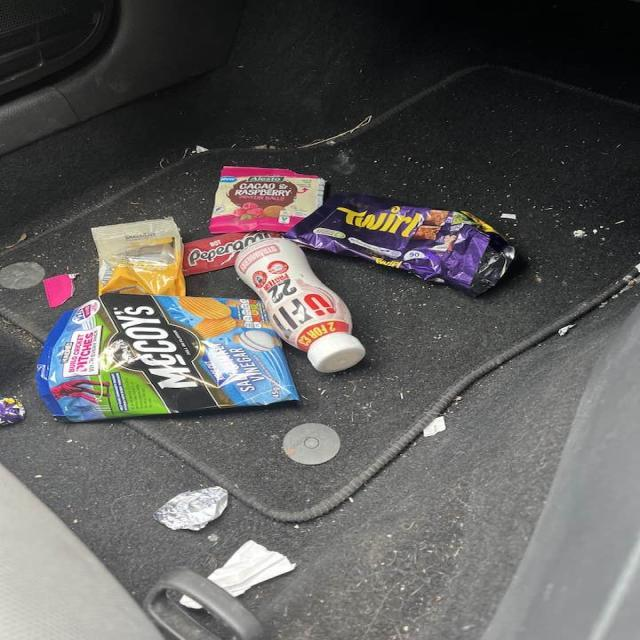clothes: (144, 470, 243, 534)
food: (173, 524, 302, 632)
leaf: (23, 306, 306, 425), (300, 193, 516, 295), (244, 237, 365, 391), (188, 158, 368, 233), (80, 208, 204, 300)
